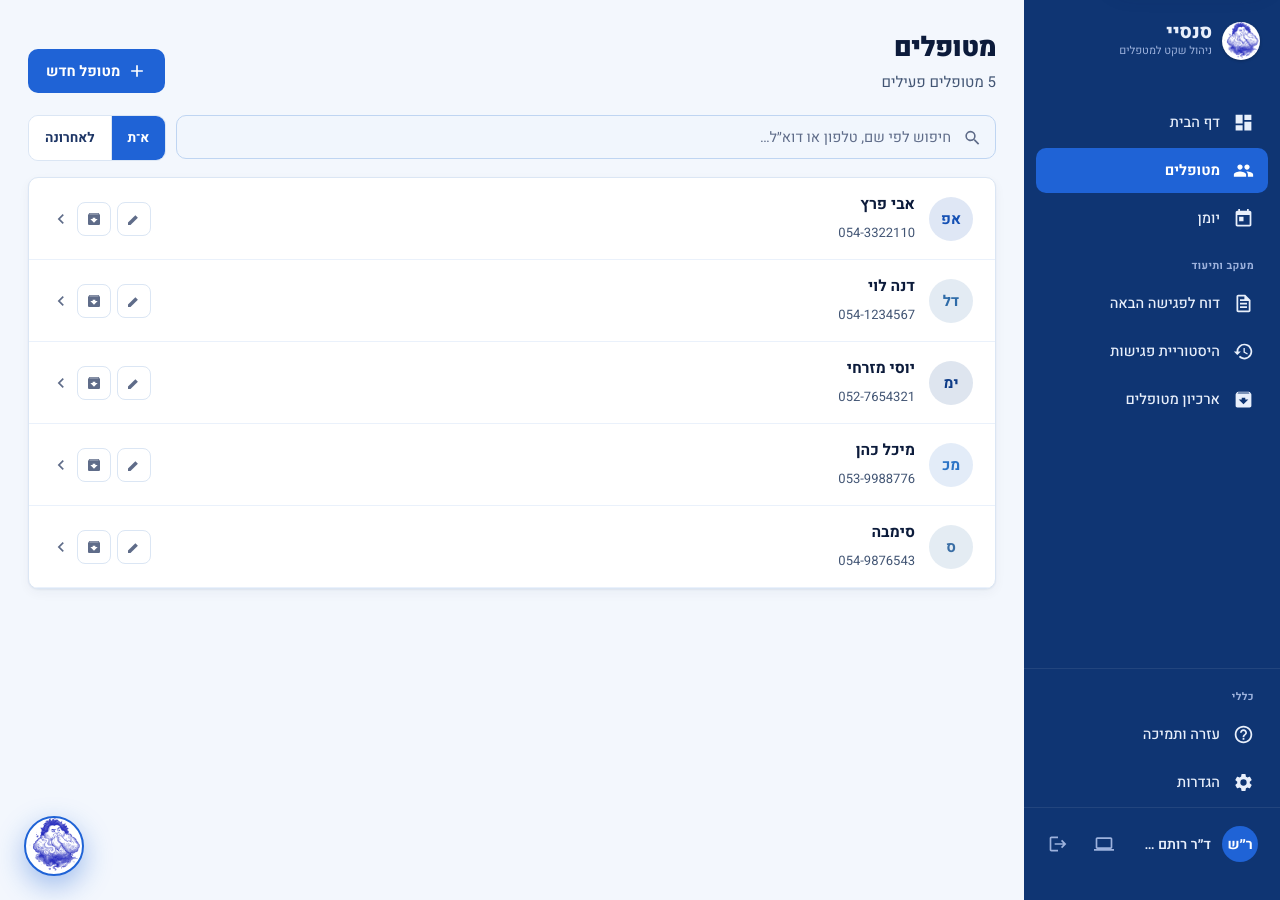
Scenario: accessibility (axe) — interactive overlays › create-patient dialog
Click the button "מטופל חדש" at {"x": 97, "y": 71}, box [28,49,165,93]
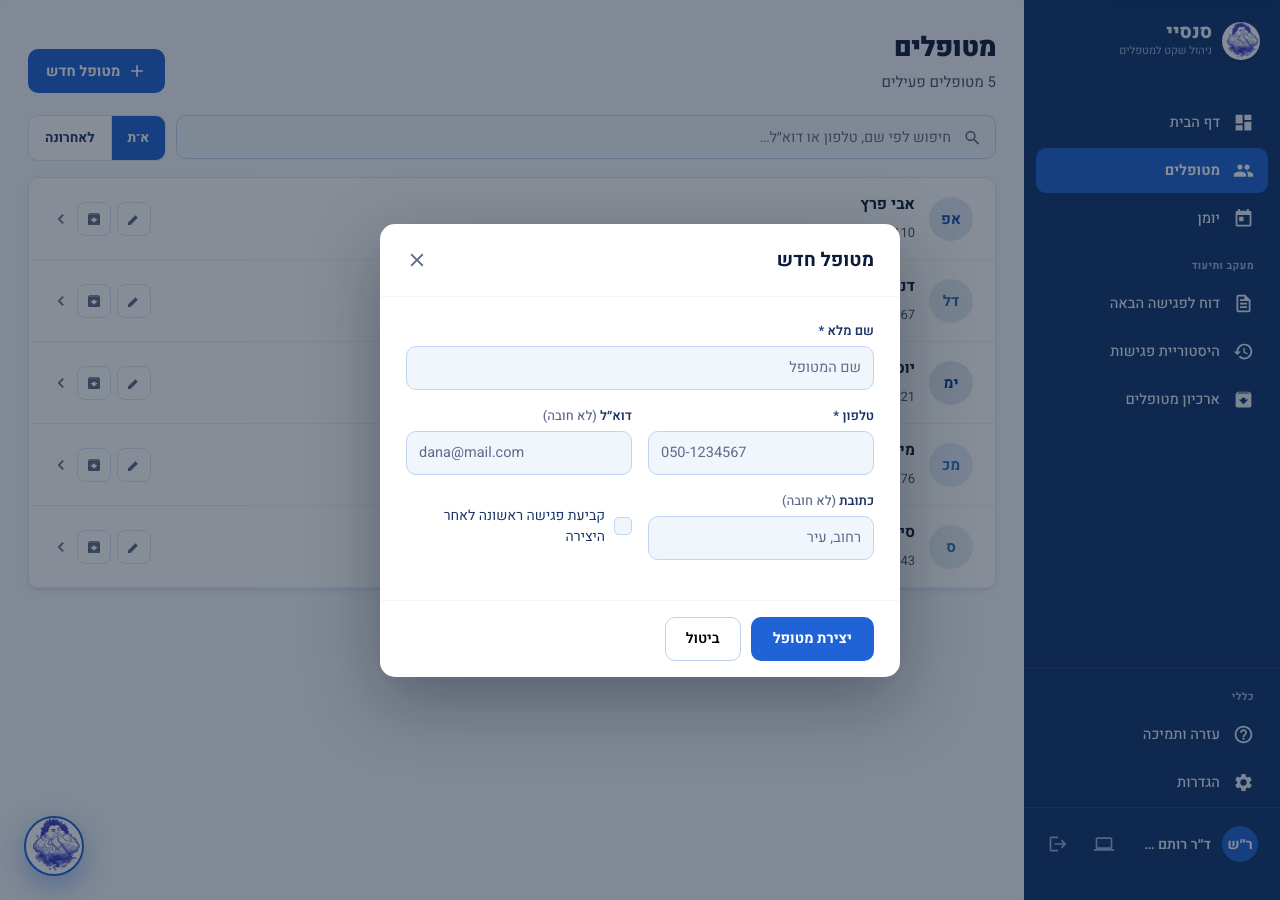
Check: the dialog is shown, box [380,224,900,676]
